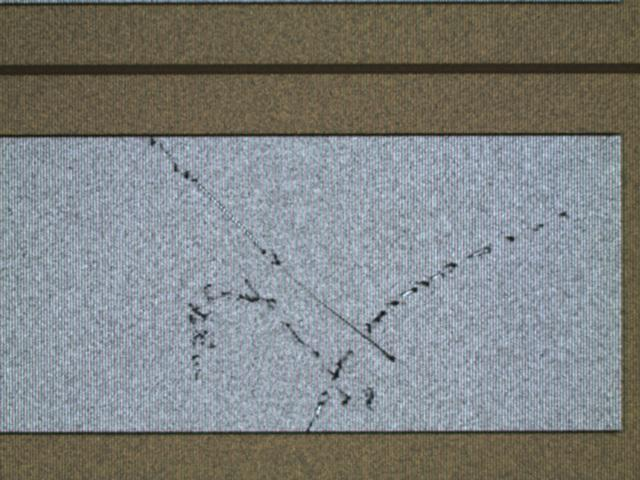SCRATCH: (133, 124, 587, 440)
